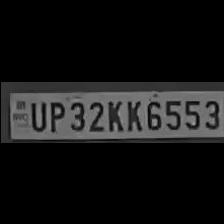2: (84, 97, 104, 130)
3: (201, 96, 221, 128), (65, 98, 84, 130)
5: (162, 96, 182, 128), (182, 96, 200, 128)
6: (142, 96, 160, 130)
K: (104, 97, 124, 131), (123, 97, 141, 131)
P: (44, 97, 64, 130)
U: (26, 97, 44, 130)
